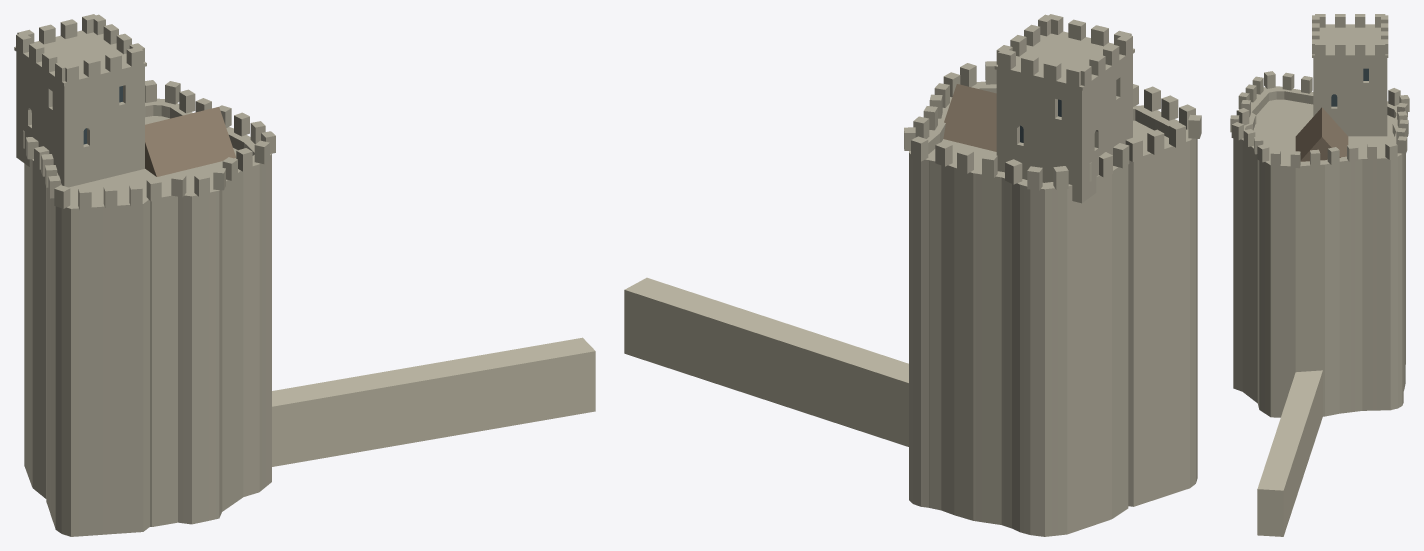
The model's file is tour-saint-nicolas-rochelle-far.glb.
The picture shows the model from 3 angles, left to right: view 1: azimuth 30°, elevation 25°; view 2: azimuth 150°, elevation 25°; view 3: azimuth 270°, elevation 25°; orthographic projection. The views are drawn at different scales.
Visible parts, largest first — view 1: tour-saint-nicolas-rochelle-0-plaster, tour-saint-nicolas-rochelle-0-trim, tour-saint-nicolas-rochelle-0-roof; view 2: tour-saint-nicolas-rochelle-0-plaster, tour-saint-nicolas-rochelle-0-trim, tour-saint-nicolas-rochelle-0-roof; view 3: tour-saint-nicolas-rochelle-0-plaster, tour-saint-nicolas-rochelle-0-trim, tour-saint-nicolas-rochelle-0-roof.
Part boxes in pixels (<box>): tour-saint-nicolas-rochelle-0-plaster: <box>14,14,275,536</box>; tour-saint-nicolas-rochelle-0-trim: <box>272,337,595,466</box>; tour-saint-nicolas-rochelle-0-roof: <box>145,107,235,176</box>; tour-saint-nicolas-rochelle-0-plaster: <box>904,14,1201,536</box>; tour-saint-nicolas-rochelle-0-trim: <box>624,277,908,446</box>; tour-saint-nicolas-rochelle-0-roof: <box>943,84,996,151</box>; tour-saint-nicolas-rochelle-0-plaster: <box>1230,14,1409,417</box>; tour-saint-nicolas-rochelle-0-trim: <box>1257,370,1322,536</box>; tour-saint-nicolas-rochelle-0-roof: <box>1295,107,1348,161</box>.
Bounding box in the file's own units: 53.91 × 42 × 20.35.
